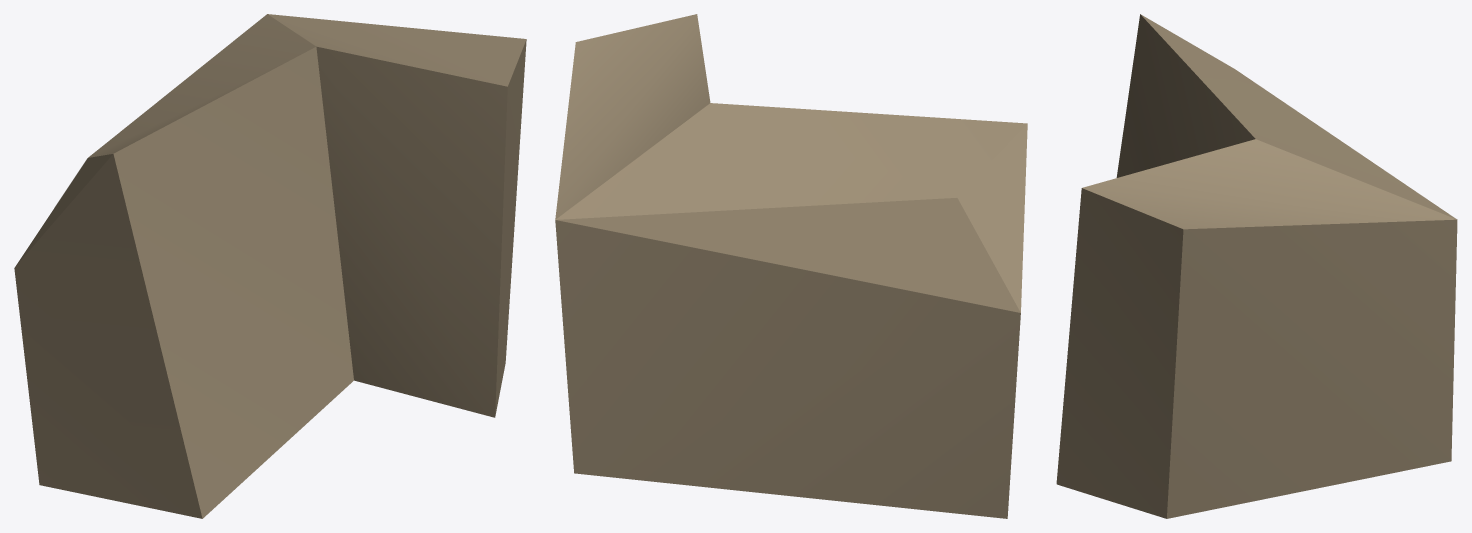
The model's file is rock_tall_lrg_p_03.fbx.
The picture shows the model from 3 angles, left to right: view 1: azimuth 30°, elevation 25°; view 2: azimuth 150°, elevation 25°; view 3: azimuth 270°, elevation 25°; orthographic projection. The views are drawn at different scales.
Parts seen in each view (by area): view 1: rock_tall_lrg_p_03; view 2: rock_tall_lrg_p_03; view 3: rock_tall_lrg_p_03.
Part boxes in pixels (<box>): rock_tall_lrg_p_03: <box>14,14,526,518</box>; rock_tall_lrg_p_03: <box>555,14,1027,518</box>; rock_tall_lrg_p_03: <box>1056,14,1457,518</box>.
Bounding box in the file's own units: 49.93 × 35.64 × 36.82.
